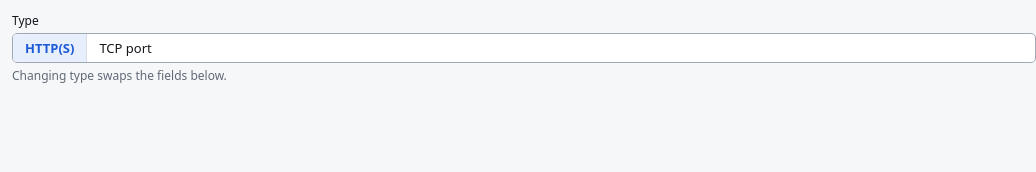
Test case: TypeField › reports the new type once and keeps focus on the chosen radio
What coordinates should you click on to do the following:
click the radio button named "TCP port"
I would click on:
 (126, 48)
Its box is [87,34,164,62].
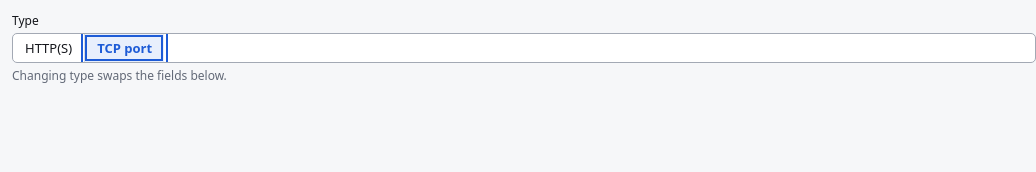
Now the radio button named "TCP port" is checked, box [85,34,164,62]
